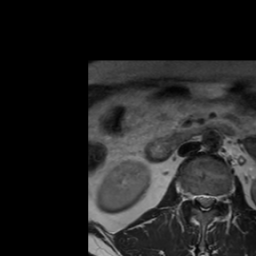CCS_stenosis: (201, 187, 208, 217)
LFS_normal: (216, 188, 226, 210)
LLS_stenosis: (208, 187, 216, 210)
RFS_normal: (187, 185, 194, 209)
RLS_stenosis: (194, 188, 201, 209)
